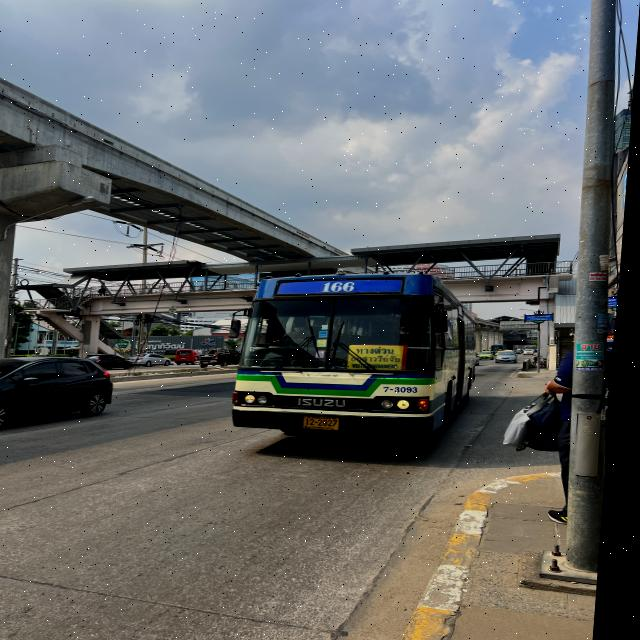BMTA-bus: (234, 271, 489, 441)
Bus-Line-Number: (323, 279, 363, 294)
Destination-Sign-Normal-Expressway: (354, 345, 409, 371)
